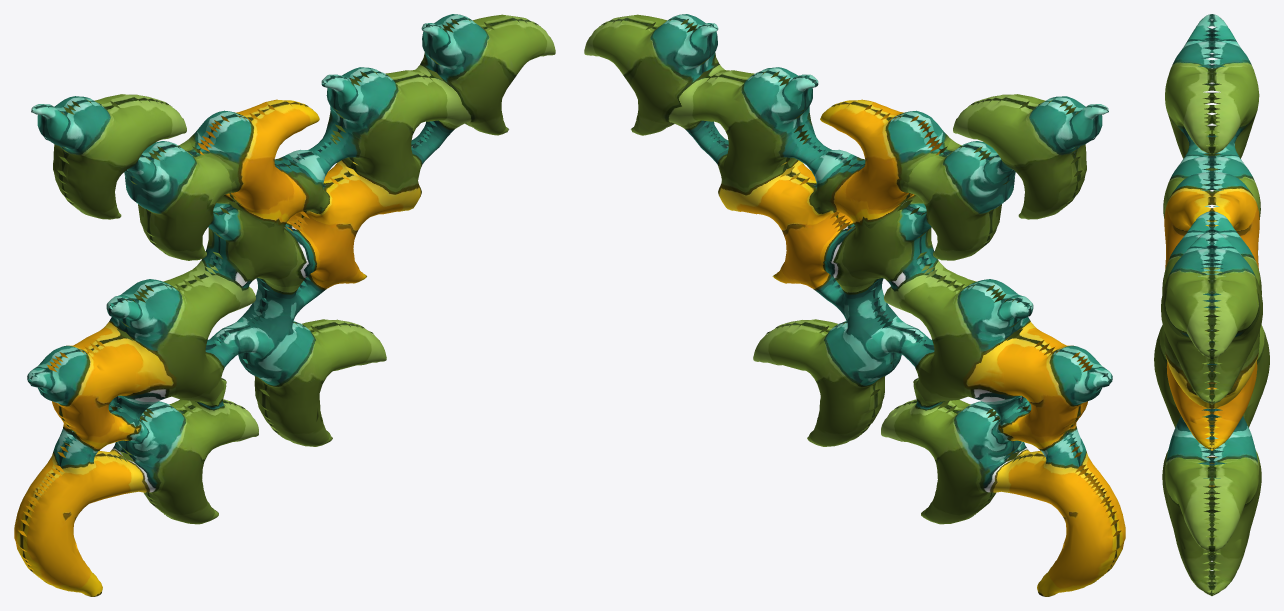
The model's file is leaf_vine.glb.
The picture shows the model from 3 angles, left to right: view 1: azimuth 30°, elevation 25°; view 2: azimuth 150°, elevation 25°; view 3: azimuth 270°, elevation 25°; orthographic projection. The views are drawn at different scales.
Visible parts, largest first — view 1: leaf_vine; view 2: leaf_vine; view 3: leaf_vine.
Part boxes in pixels (x1,y1,x2,y2): leaf_vine: [14, 14, 555, 596]; leaf_vine: [584, 14, 1125, 596]; leaf_vine: [1154, 14, 1269, 595].
Size of the model in its own units: 0.9889 by 0.8759 by 0.1757.
1 material, 1 textured.
